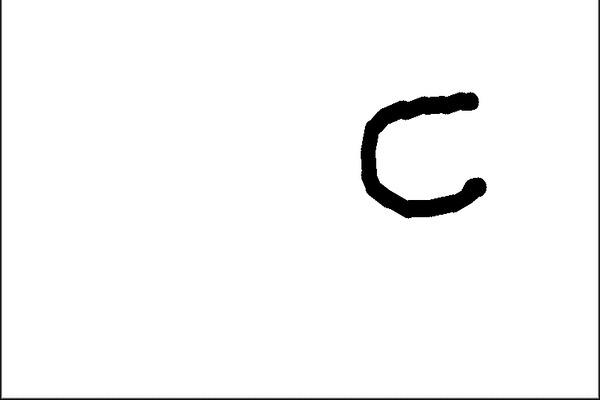C: (355, 88, 489, 219)
